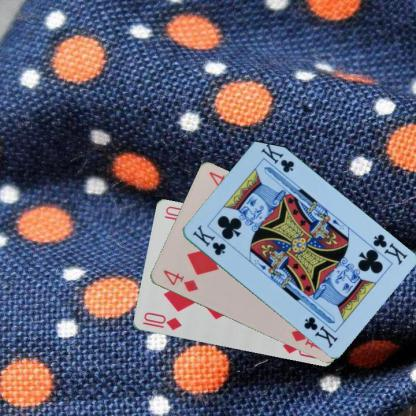10d: (140, 310, 182, 332)
4d: (160, 267, 199, 293)
Kc: (370, 231, 408, 267), (190, 222, 227, 257)
